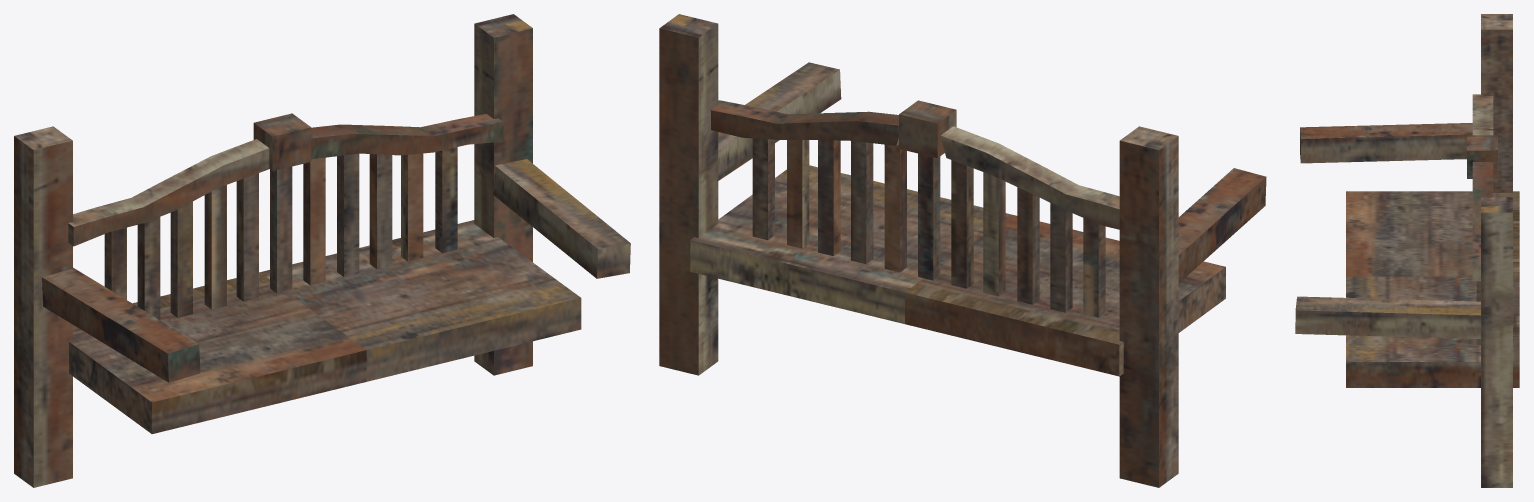
The model's file is Bench.fbx.
3 renders of one model, left to right at view 1: azimuth 30°, elevation 25°; view 2: azimuth 150°, elevation 25°; view 3: azimuth 270°, elevation 25°, orthographic. The views are drawn at different scales.
Parts seen in each view (by area): view 1: pCube23; view 2: pCube23; view 3: pCube23.
Boxes of the visible parts, x1,y1,x2,y2 form: pCube23: (14, 14, 630, 487); pCube23: (659, 14, 1266, 487); pCube23: (1295, 14, 1519, 487).
Size of the model in its own units: 2 by 1.29 by 0.9533.
Materials: 1 (1 with a texture image).
